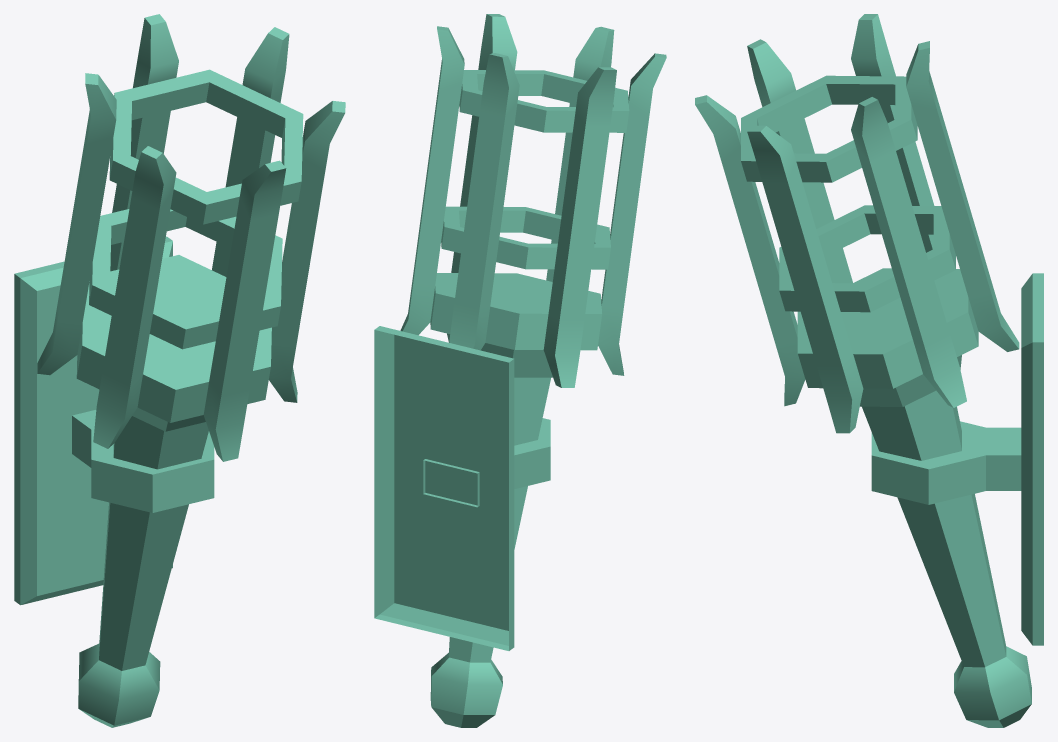
File: WallTorch.fbx
The picture shows the model from 3 angles, left to right: view 1: azimuth 30°, elevation 25°; view 2: azimuth 150°, elevation 25°; view 3: azimuth 270°, elevation 25°; orthographic projection. The views are drawn at different scales.
Visible parts, largest first — view 1: WallTorch; view 2: WallTorch; view 3: WallTorch.
Boxes of the visible parts, box(x1,y1,x2,y2) form: WallTorch: box(14, 14, 345, 727); WallTorch: box(374, 14, 666, 727); WallTorch: box(695, 14, 1043, 727).
Bounding box in the file's own units: 39.24 × 134 × 62.59.
